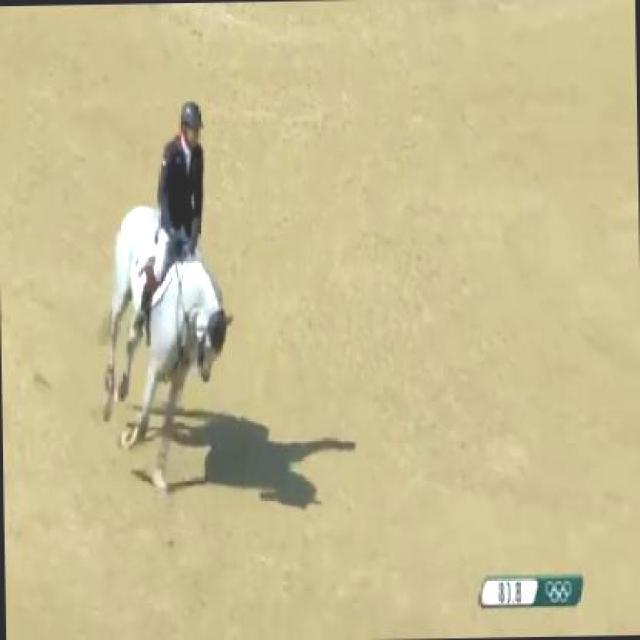non-fight: (96, 89, 232, 514)
